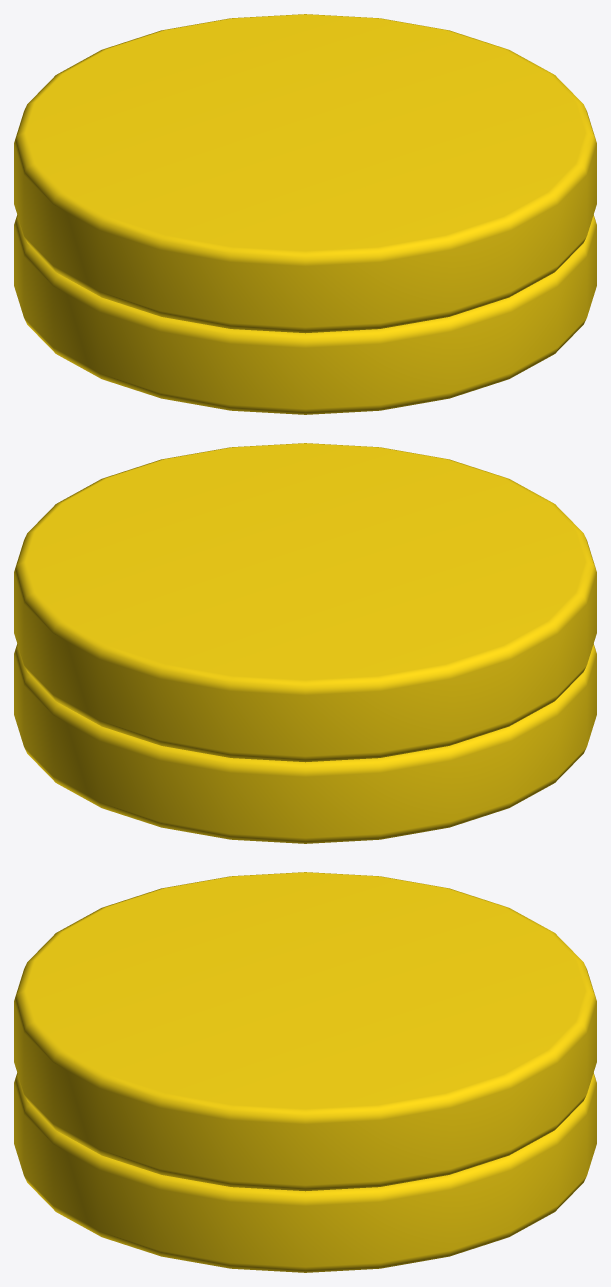
The model's file is Public_1_Stack_of_Coins_4.glb.
The picture shows the model from 3 angles, top to bottom: view 1: azimuth 30°, elevation 25°; view 2: azimuth 150°, elevation 25°; view 3: azimuth 270°, elevation 25°; orthographic projection.
Visible parts, largest first — view 1: Public_1_Stack_of_Coins_4; view 2: Public_1_Stack_of_Coins_4; view 3: Public_1_Stack_of_Coins_4.
Part boxes in pixels (left/top/right/bottom): Public_1_Stack_of_Coins_4: left=14, top=14, right=596, bottom=414; Public_1_Stack_of_Coins_4: left=14, top=443, right=596, bottom=843; Public_1_Stack_of_Coins_4: left=14, top=872, right=596, bottom=1272.
Bounding box in the file's own units: 1.11 × 0.3438 × 1.11.
Materials: 1 (1 with a texture image).
